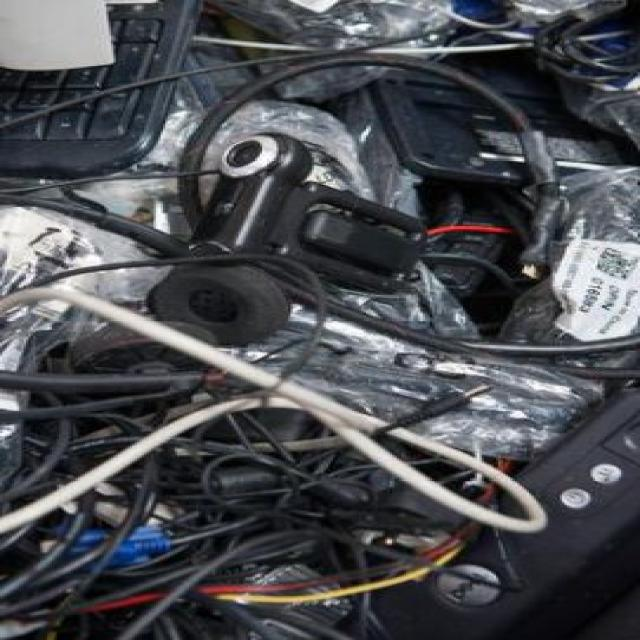electronic: (0, 0, 638, 639)
